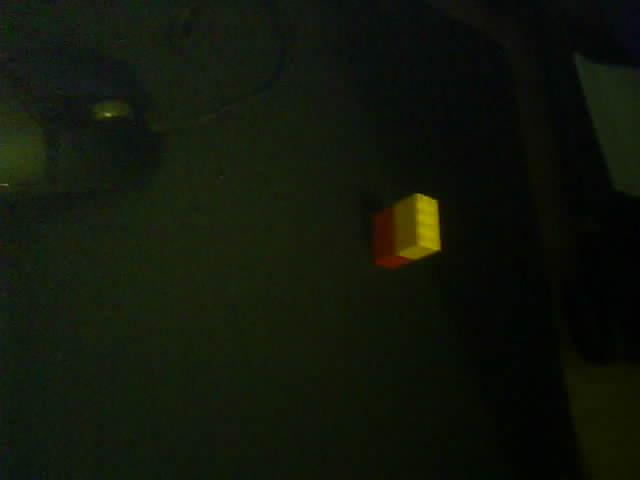lego: (372, 193, 442, 269)
